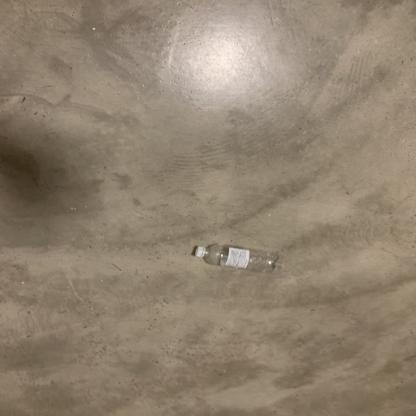trash: (194, 243, 287, 275)
